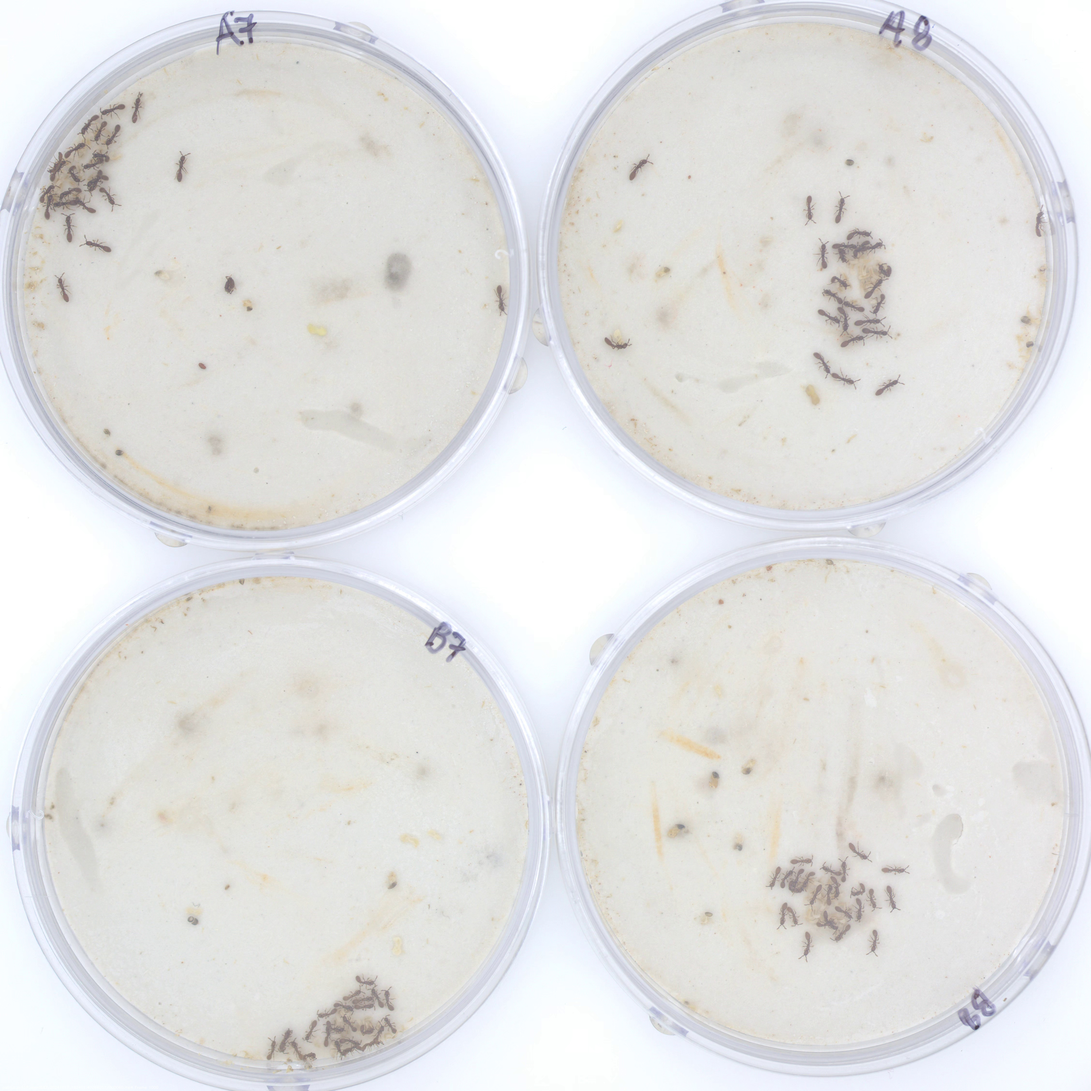brood: (37, 115, 122, 211), (313, 1007, 417, 1059), (791, 873, 851, 938), (844, 245, 888, 309), (826, 267, 854, 303), (845, 299, 861, 307)
